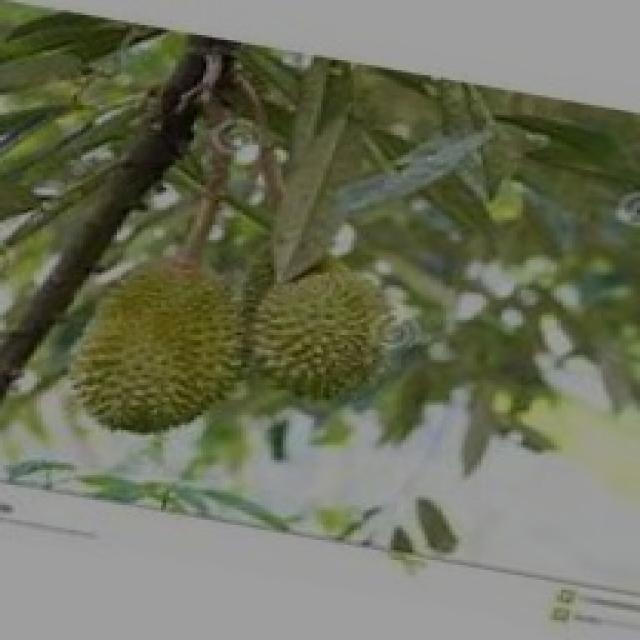fruit: (49, 232, 274, 460), (234, 247, 415, 425)
